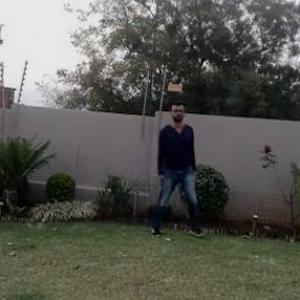follow: (146, 100, 194, 248)
